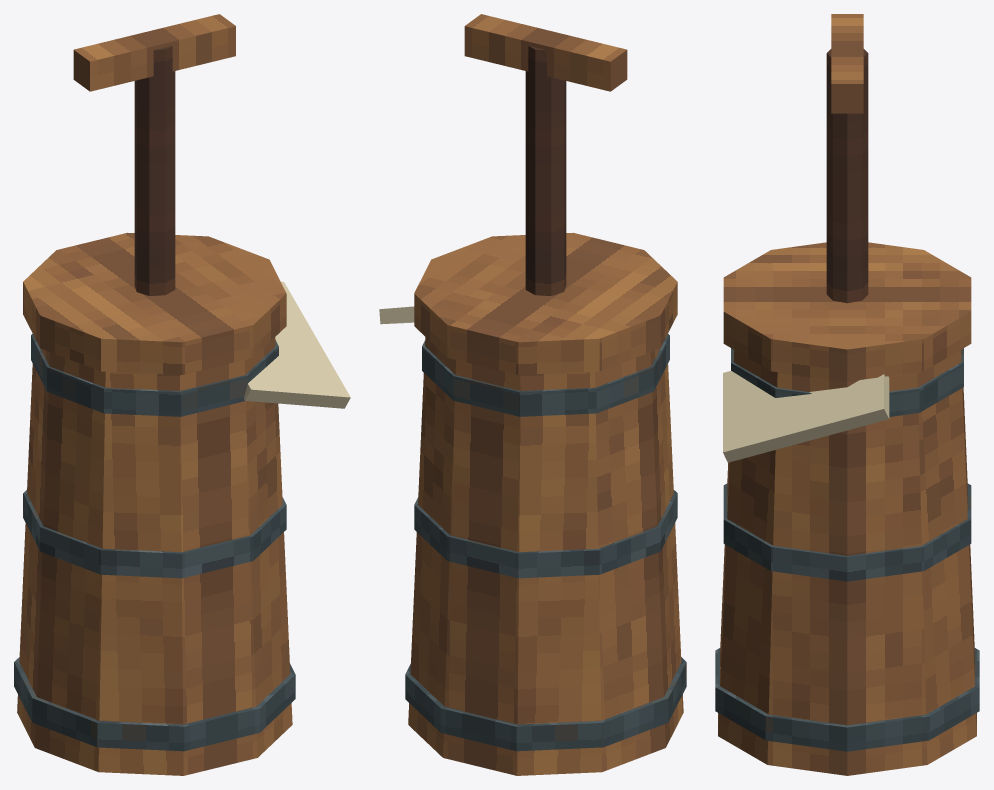
3 views of the same model, side by side, from view 1: azimuth 30°, elevation 25°; view 2: azimuth 150°, elevation 25°; view 3: azimuth 270°, elevation 25° (orthographic).
Visible parts, largest first — view 1: body_oak, body_oak_light, body_iron, body_wood_dark, body_linen; view 2: body_oak, body_oak_light, body_iron, body_wood_dark, body_linen; view 3: body_oak, body_oak_light, body_iron, body_linen, body_wood_dark.
Boxes of the visible parts, x1,y1,x2,y2 form: body_oak: [17, 337, 292, 775]; body_oak_light: [23, 14, 286, 374]; body_iron: [14, 333, 295, 751]; body_wood_dark: [134, 45, 175, 295]; body_linen: [244, 281, 350, 408]; body_oak: [408, 337, 683, 775]; body_oak_light: [414, 14, 677, 374]; body_iron: [405, 334, 686, 751]; body_wood_dark: [525, 46, 566, 295]; body_linen: [379, 306, 414, 324]; body_oak: [718, 350, 976, 775]; body_oak_light: [723, 14, 971, 381]; body_iron: [715, 348, 979, 751]; body_linen: [723, 371, 889, 462]; body_wood_dark: [826, 49, 868, 303].
Size of the model in its own units: 0.5187 by 1.25 by 0.447.
5 materials, 4 textured.
